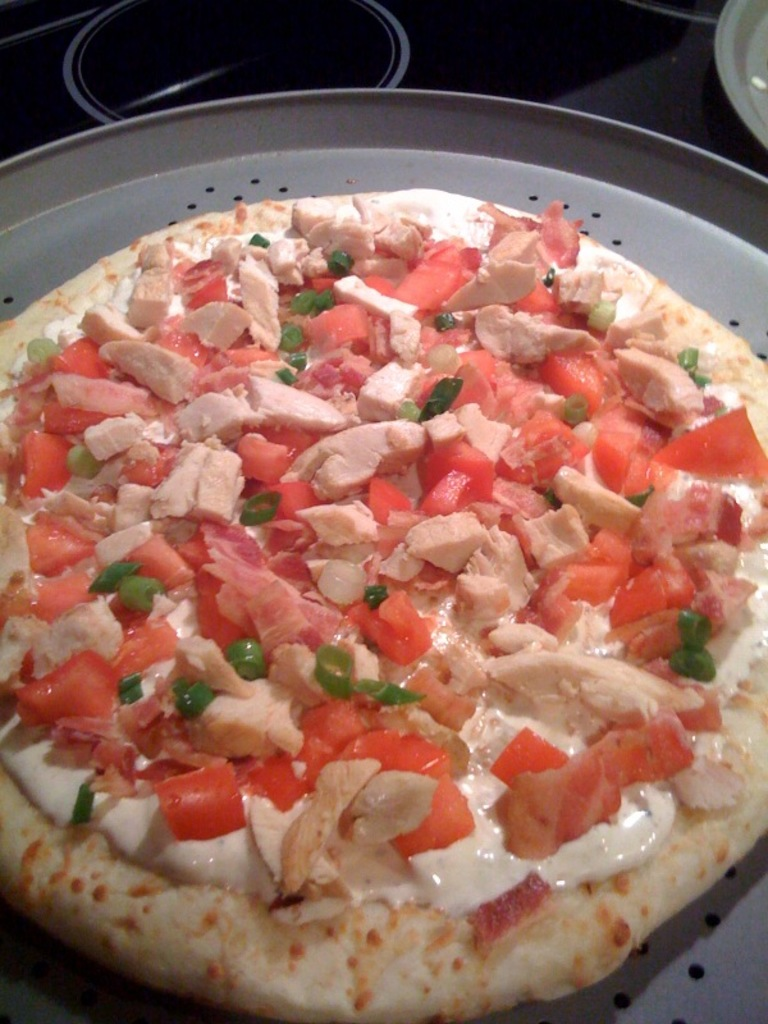Pizza: (10, 188, 768, 1017)
